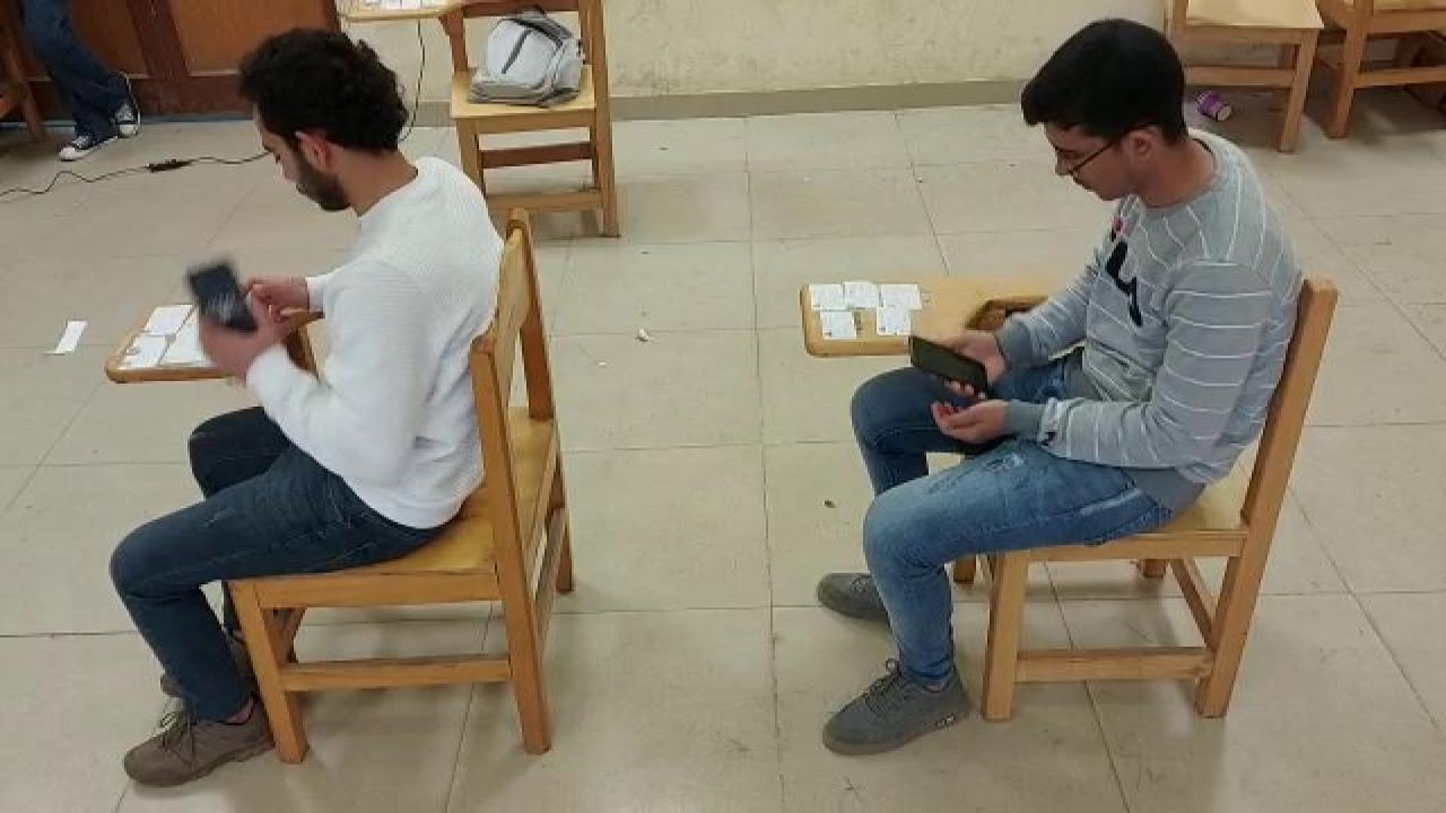phone: (906, 332, 992, 391), (185, 258, 251, 326)
